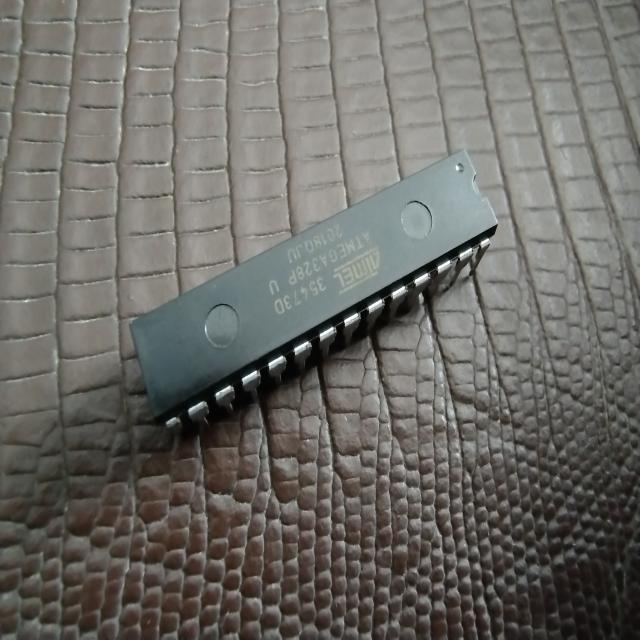atmega: (127, 145, 500, 434)
